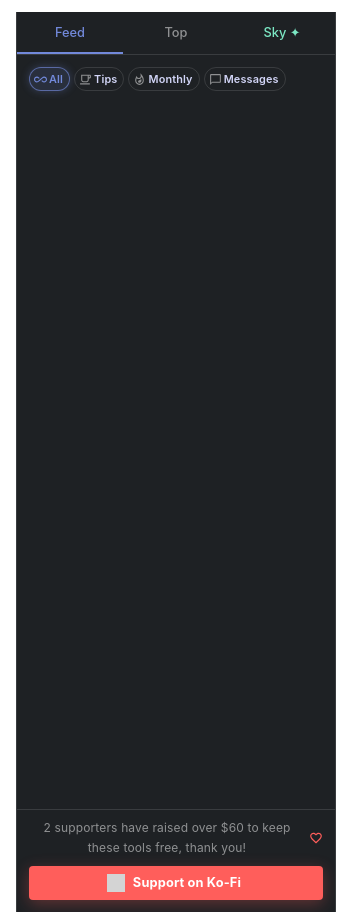
DonationDrawer › shows the Supporter Constellation on the Sky tab, one star per donor
The image size is (348, 912).
Click the tab with test id "donation-tab-sky" at (282, 33), box x1=229 y1=12 x2=335 y2=54
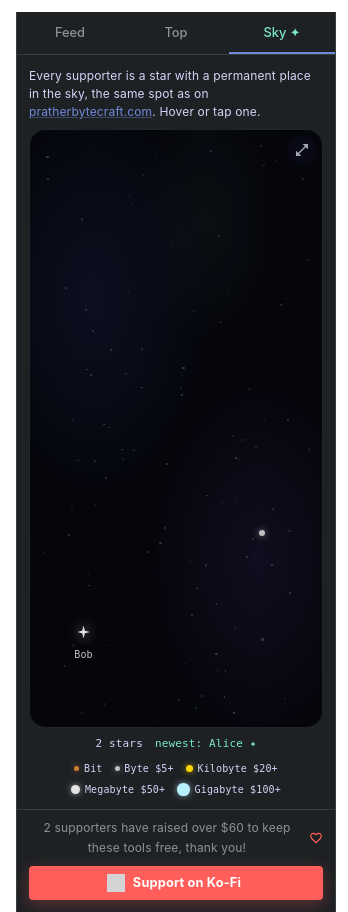
Check: the element with test id "supporter-sky" is shown, box x1=29 y1=129 x2=323 y2=728
Check: the number of elements with test id "sky-star" is 2, box x1=77 y1=626 x2=90 y2=638; x1=258 y1=530 x2=264 y2=536
Check: the button with test id "sky-expand" is shown, box x1=288 y1=136 x2=316 y2=164
